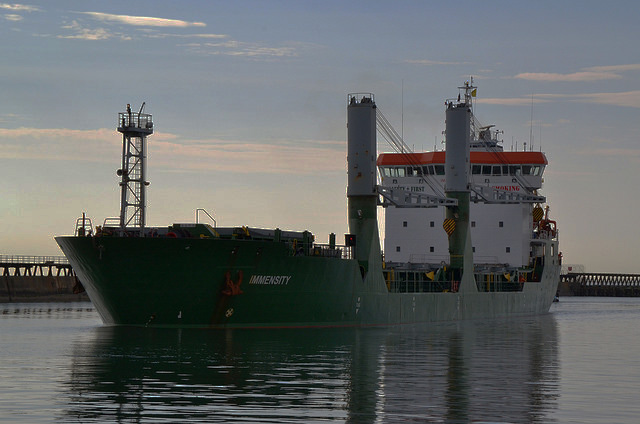bulk carrier: (60, 78, 570, 328)
